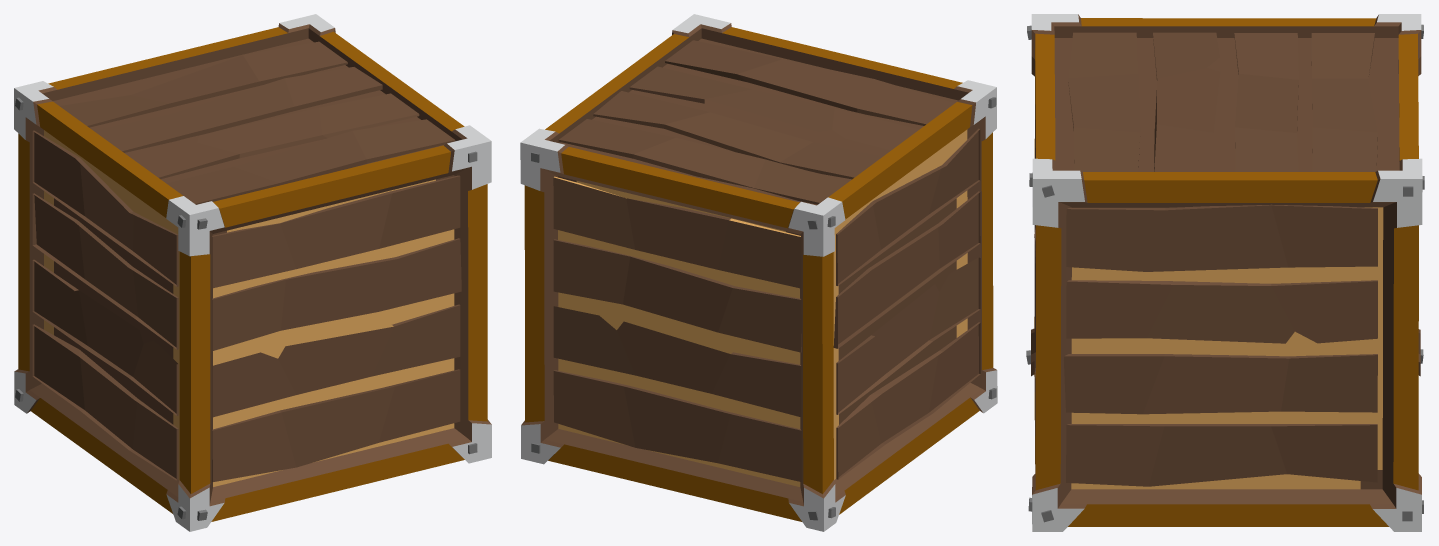
File: Collection.fbx
The picture shows the model from 3 angles, left to right: view 1: azimuth 30°, elevation 25°; view 2: azimuth 150°, elevation 25°; view 3: azimuth 270°, elevation 25°; orthographic projection. The views are drawn at different scales.
Visible parts, largest first — view 1: Cube.001; view 2: Cube.001; view 3: Cube.001.
Boxes of the visible parts, x1,y1,x2,y2 form: Cube.001: (14,14,491,531); Cube.001: (520,14,997,531); Cube.001: (1026,14,1424,531).
Size of the model in its own units: 77.6 by 76.13 by 77.66.
